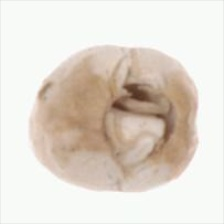L3: (103, 85, 171, 165)
L4: (29, 45, 200, 193)
